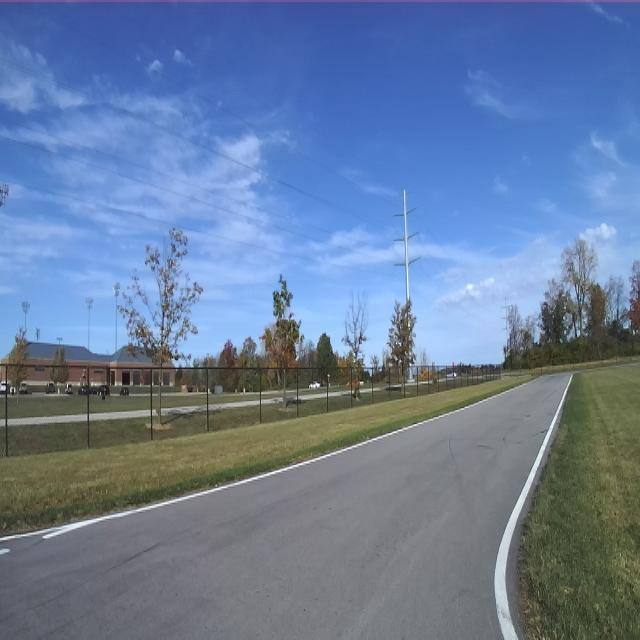white-line: (0, 383, 529, 542), (494, 373, 572, 639)
